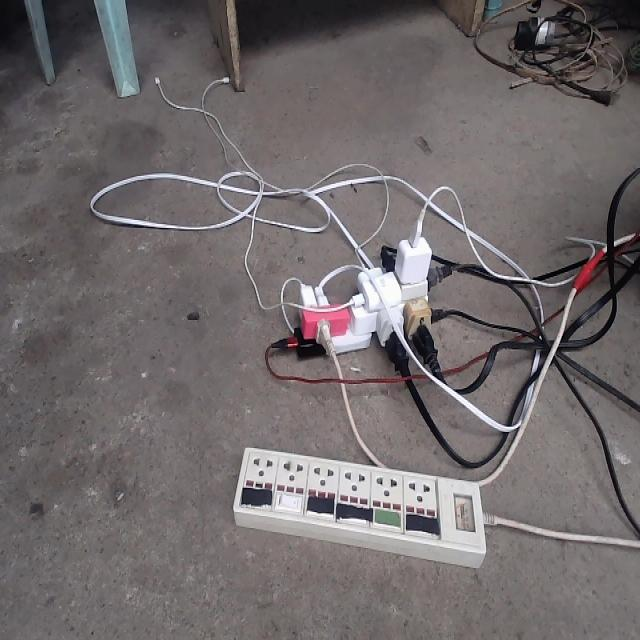-: (287, 224, 442, 369)
